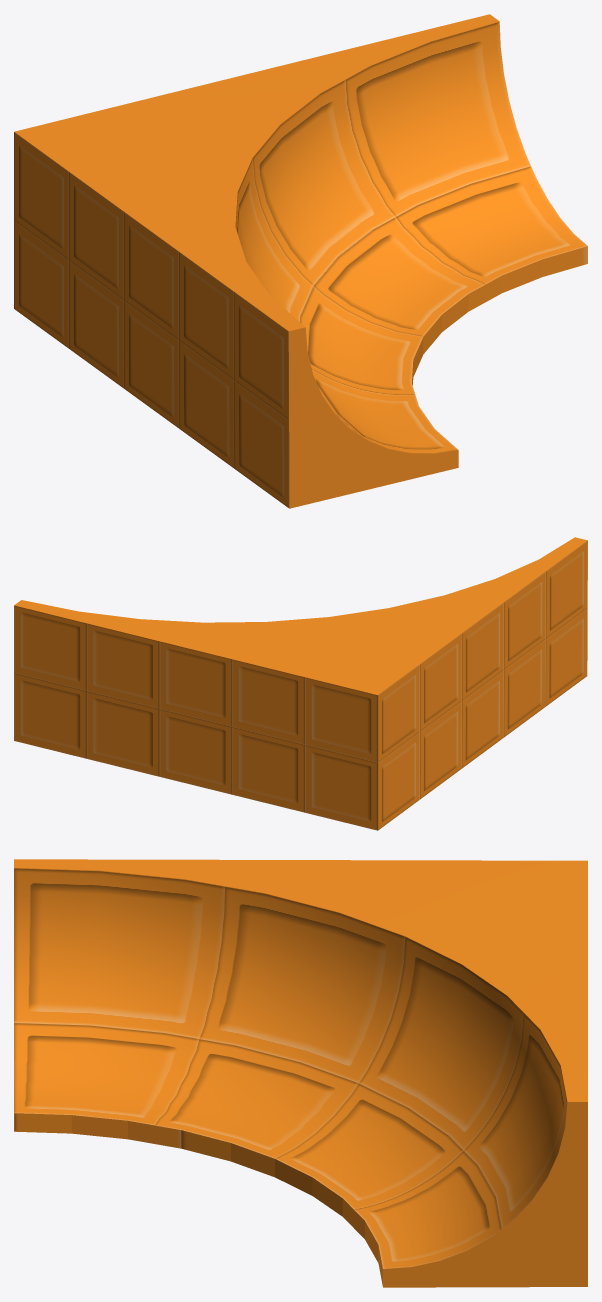
The model's file is HalfPipeCurve_mesh.fbx.
3 views of the same model, one above another, from view 1: azimuth 30°, elevation 25°; view 2: azimuth 150°, elevation 25°; view 3: azimuth 270°, elevation 25° (orthographic). The views are drawn at different scales.
Parts seen in each view (by area): view 1: HalfPipeCurve_mesh; view 2: HalfPipeCurve_mesh; view 3: HalfPipeCurve_mesh.
Boxes of the visible parts, x1,y1,x2,y2 form: HalfPipeCurve_mesh: (14, 14, 587, 508); HalfPipeCurve_mesh: (14, 537, 587, 830); HalfPipeCurve_mesh: (14, 859, 587, 1287).
Bounding box in the file's own units: 280 × 100 × 280.
